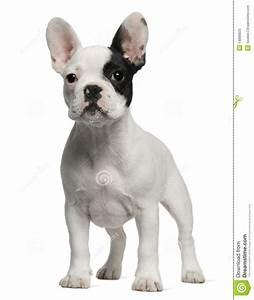dog: (44, 10, 205, 292)
